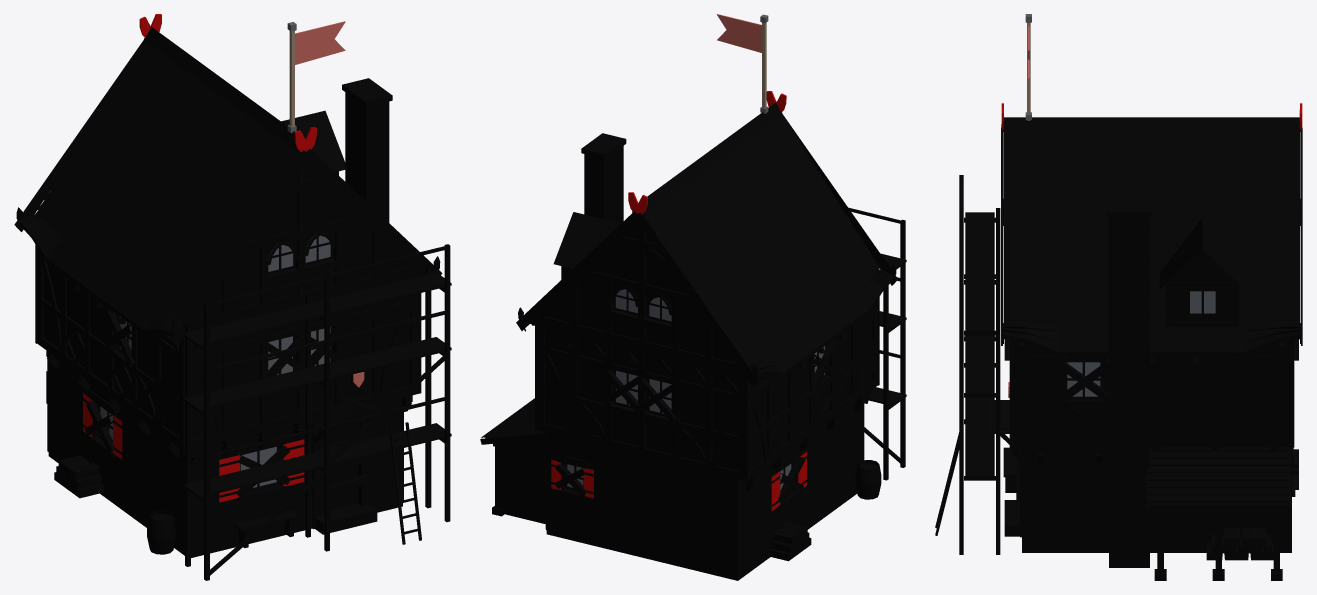
The model's file is wohnhaus_elb_s2_g3.glb.
3 renders of one model, left to right at view 1: azimuth 30°, elevation 25°; view 2: azimuth 150°, elevation 25°; view 3: azimuth 270°, elevation 25°, orthographic. The views are drawn at different scales.
Parts seen in each view (by area): view 1: Haus, Dach, Geruest, Leerstand, Fahne, Scheiben; view 2: Haus, Dach, Geruest, Leerstand, Fahne, Scheiben; view 3: Dach, Haus, Geruest, Leerstand, Scheiben, Fahne.
Part boxes in pixels (x1,y1,x2,y2): Haus: (35, 43, 421, 557); Dach: (14, 14, 442, 345); Geruest: (183, 244, 451, 580); Leerstand: (85, 310, 370, 500); Fahne: (287, 21, 345, 133); Scheiben: (100, 235, 330, 487); Haus: (492, 117, 881, 580); Dach: (480, 91, 898, 444); Geruest: (848, 207, 906, 480); Leerstand: (555, 338, 838, 503); Fahne: (717, 14, 768, 113); Scheiben: (567, 289, 825, 490); Dach: (1001, 103, 1302, 508); Haus: (990, 133, 1295, 580); Geruest: (935, 175, 1000, 554); Leerstand: (1004, 339, 1298, 502); Scheiben: (1067, 291, 1215, 396); Fahne: (1025, 14, 1031, 120).
Bounding box in the file's own units: 7.73 × 11.75 × 8.03.
